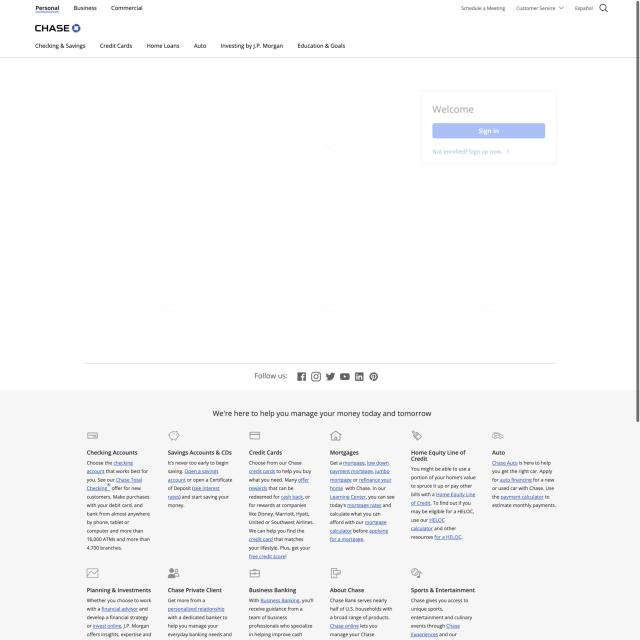CheckBox: (432, 122, 546, 140), (432, 146, 511, 156), (167, 607, 226, 613), (184, 468, 220, 476), (329, 469, 373, 474), (193, 485, 221, 492), (248, 468, 276, 475), (343, 460, 365, 466), (367, 460, 389, 466)
Input field: (211, 408, 433, 421)
Spinner: (422, 90, 558, 165)
alert: (515, 4, 565, 12)
badge: (3, 360, 639, 640)
bag: (0, 0, 636, 58)
breadcrumbs: (410, 450, 468, 463), (430, 102, 476, 117), (168, 449, 232, 456), (86, 449, 138, 456), (330, 449, 361, 457), (248, 449, 283, 456), (491, 449, 506, 456)
carousel: (85, 568, 100, 580), (168, 567, 180, 580), (329, 567, 342, 579), (410, 567, 423, 579), (249, 568, 261, 580), (167, 430, 180, 441), (330, 430, 342, 441), (249, 430, 261, 440), (598, 3, 608, 14), (311, 372, 321, 382), (412, 430, 422, 440), (297, 372, 307, 381), (325, 372, 335, 381), (368, 372, 378, 381), (492, 432, 504, 439), (355, 372, 364, 381), (340, 372, 350, 380), (87, 432, 98, 439), (506, 148, 510, 156)
data feed: (478, 126, 501, 136)
date picker: (34, 21, 81, 35)
decoration: (34, 41, 347, 51), (460, 4, 595, 13), (34, 3, 144, 14)
